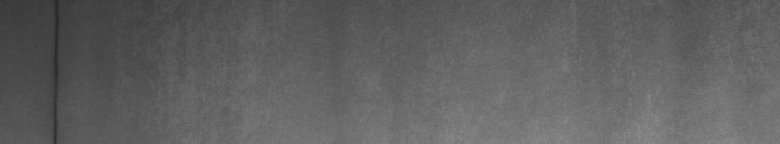hd: (52, 4, 64, 136)
